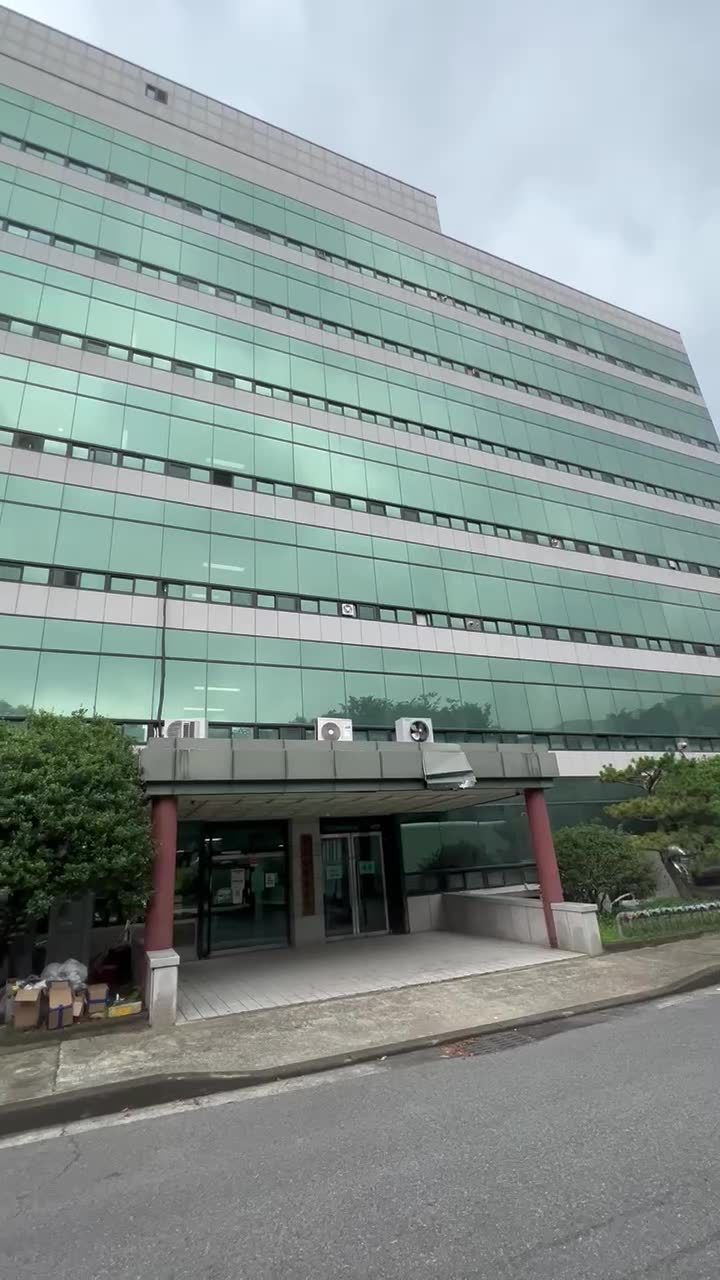low: (16, 58, 536, 744)
